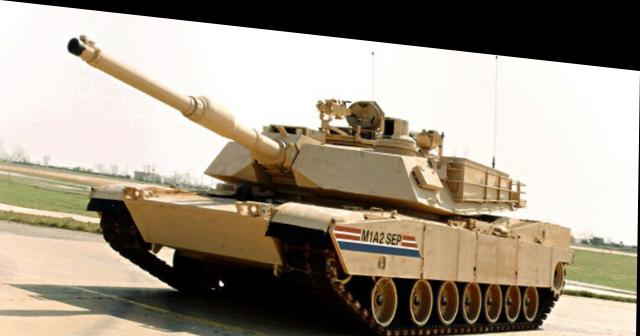tank: (91, 97, 557, 334)
